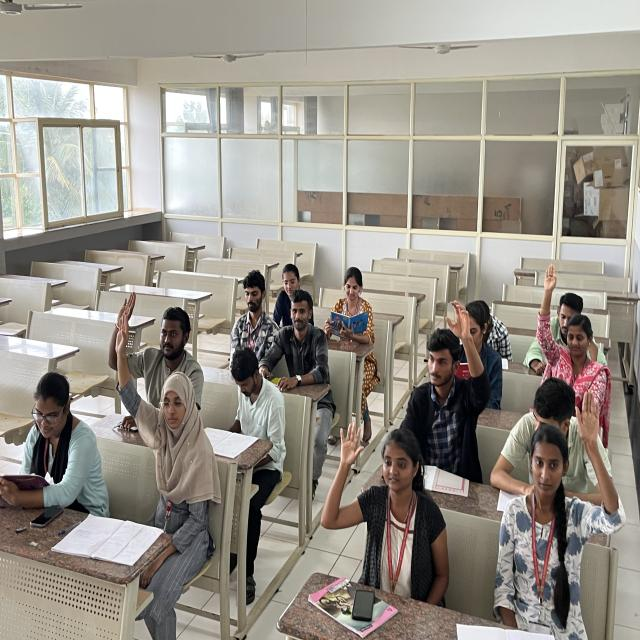Hand Rising: (492, 392, 629, 578), (317, 423, 448, 565), (115, 332, 204, 484), (409, 298, 494, 450), (100, 295, 198, 396), (534, 260, 608, 390)
Reading: (11, 352, 100, 511), (204, 352, 284, 458), (321, 269, 373, 345)
